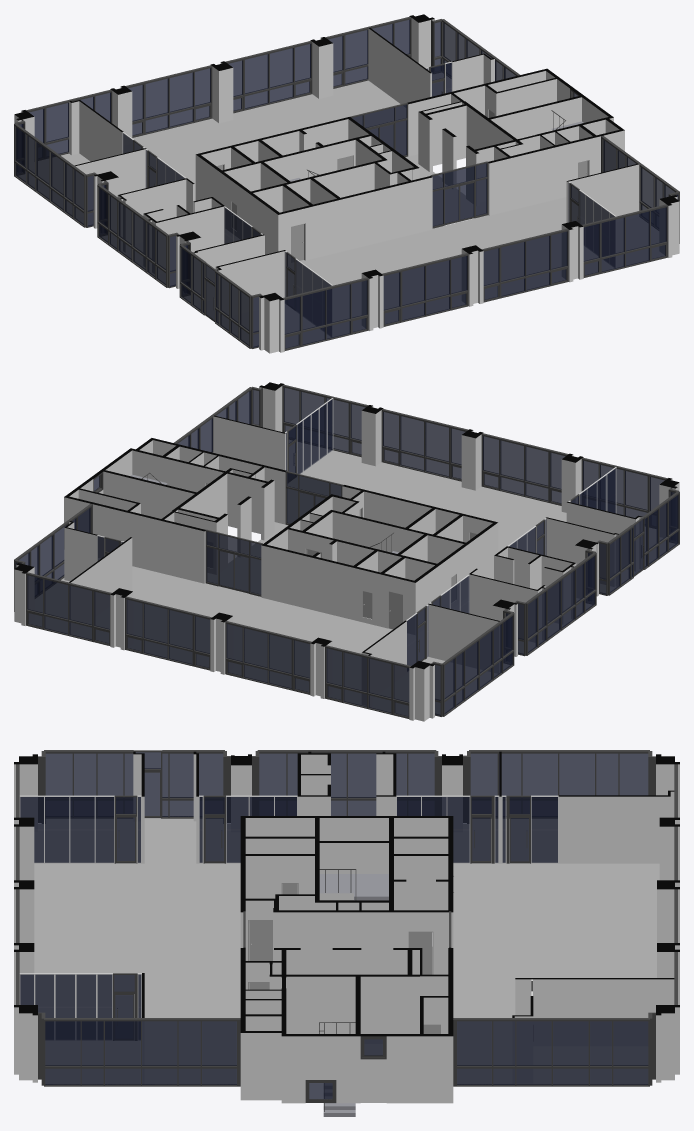
The picture shows the model from 3 angles, top to bottom: view 1: azimuth 30°, elevation 25°; view 2: azimuth 150°, elevation 25°; view 3: azimuth 270°, elevation 25°; orthographic projection. The views are drawn at different scales.
Parts seen in each view (by area): view 1: 12F, Shape093, Line070, Plane121, Rectangle158; view 2: 12F, Shape093, Line070, Plane121, Rectangle158; view 3: 12F, Line070, Shape093, Plane121, stair118, Box3172, stair119.
Boxes of the visible parts, <box> form: 12F: <box>14,16,679,350</box>; Shape093: <box>14,14,679,353</box>; Line070: <box>19,73,664,347</box>; Plane121: <box>69,28,494,321</box>; Rectangle158: <box>405,154,485,225</box>; 12F: <box>14,384,679,718</box>; Shape093: <box>14,382,679,721</box>; Line070: <box>29,440,674,715</box>; Plane121: <box>64,502,642,706</box>; Rectangle158: <box>207,522,288,593</box>; 12F: <box>16,750,677,1102</box>; Line070: <box>34,818,659,1083</box>; Shape093: <box>14,754,679,1103</box>; Plane121: <box>133,751,674,1083</box>; stair118: <box>319,869,388,900</box>; Box3172: <box>305,1034,336,1079</box>; stair119: <box>319,1022,355,1116</box>.
Bounding box in the file's own units: 27.4 × 4.61 × 26.95.
7 materials, 1 textured.
